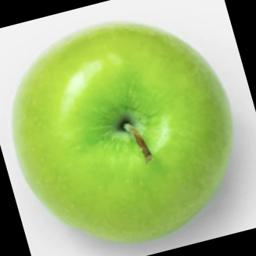Apple Semifresh: (13, 18, 241, 248)
